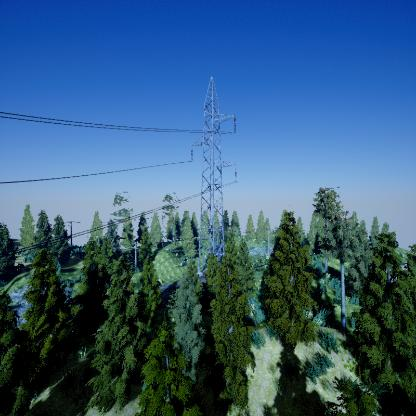tower: (188, 79, 239, 263)
